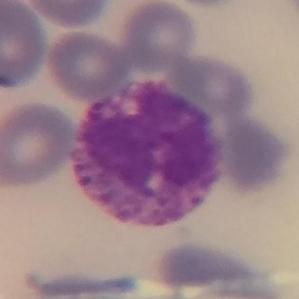Basophil: (70, 80, 221, 236)
RBC: (161, 238, 293, 299), (0, 99, 78, 188), (43, 27, 128, 101), (218, 113, 294, 194), (119, 0, 199, 65), (0, 0, 51, 92), (181, 54, 257, 115), (27, 269, 149, 299), (23, 0, 113, 30), (169, 0, 243, 9)
